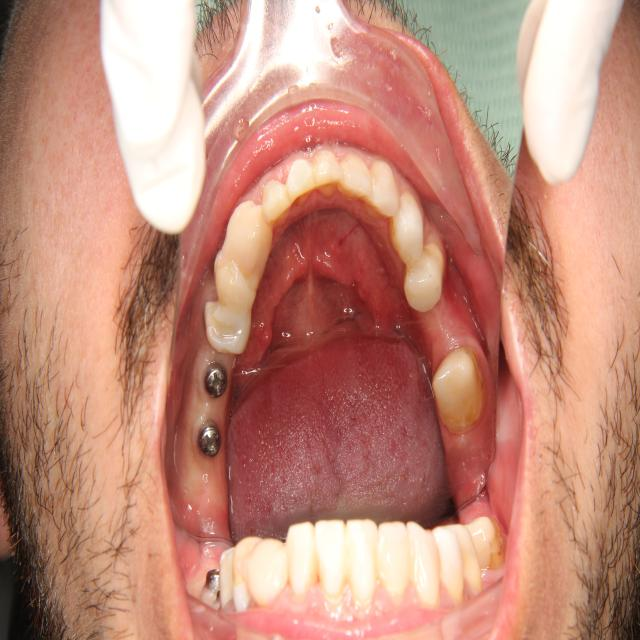tooth: (428, 341, 487, 430), (221, 187, 274, 279), (397, 236, 448, 320), (198, 292, 257, 359), (388, 173, 426, 270), (203, 246, 260, 307), (369, 150, 402, 233), (339, 146, 374, 210), (308, 139, 345, 197), (282, 151, 318, 205), (260, 177, 293, 228)
